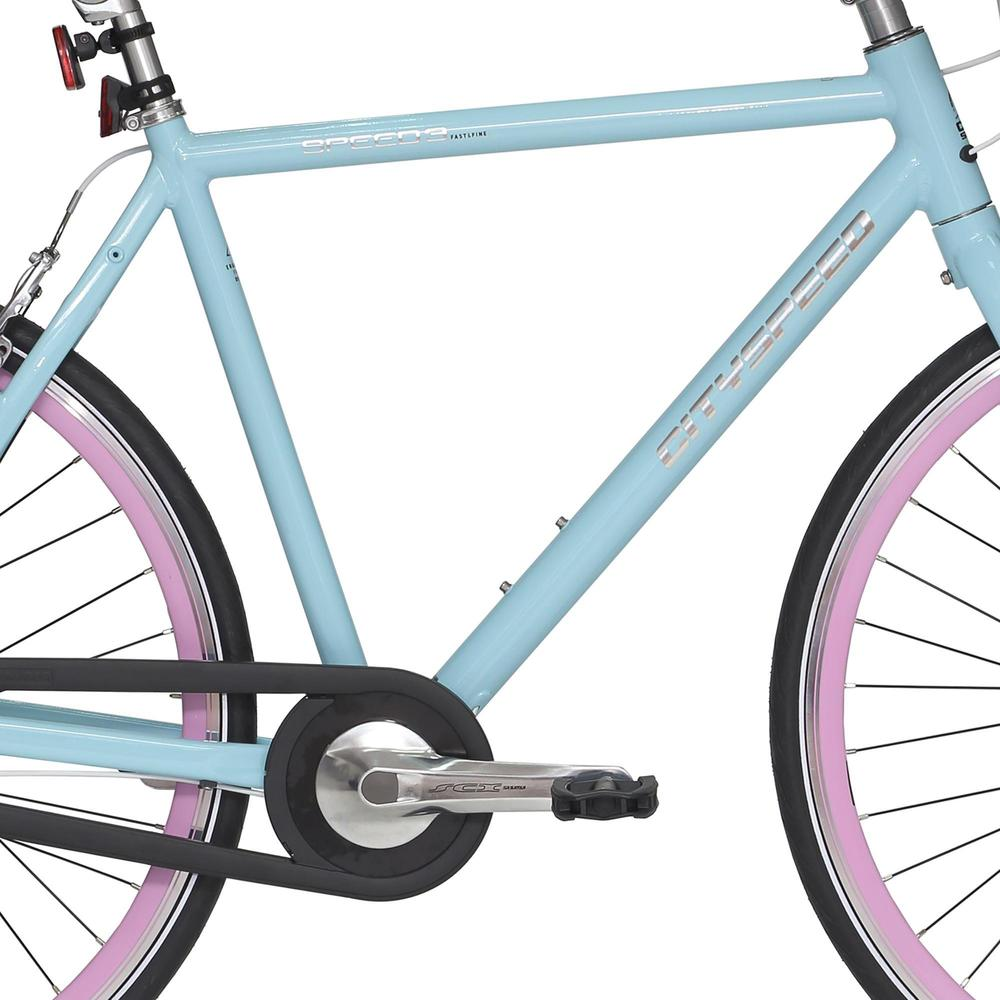UrbanBike: (0, 0, 996, 998)
